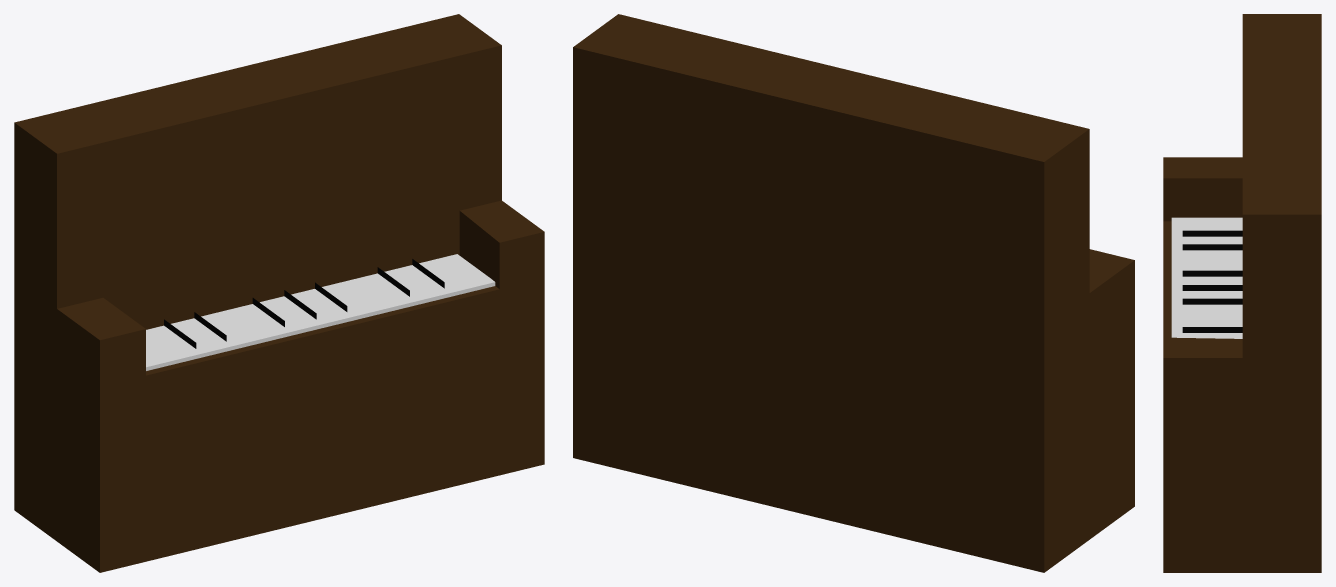
File: Piano.fbx
The picture shows the model from 3 angles, left to right: view 1: azimuth 30°, elevation 25°; view 2: azimuth 150°, elevation 25°; view 3: azimuth 270°, elevation 25°; orthographic projection. The views are drawn at different scales.
Visible parts, largest first — view 1: Piano, WhiteKeys, BlackKeys; view 2: Piano; view 3: Piano, WhiteKeys, BlackKeys.
Part boxes in pixels (left/top/right/bottom): Piano: left=14, top=14, right=544, bottom=572; WhiteKeys: left=146, top=254, right=495, bottom=370; BlackKeys: left=164, top=259, right=444, bottom=348; Piano: left=573, top=14, right=1134, bottom=572; Piano: left=1163, top=14, right=1321, bottom=572; WhiteKeys: left=1171, top=217, right=1242, bottom=338; BlackKeys: left=1182, top=230, right=1242, bottom=332.
Size of the model in its own units: 600 by 500 by 200.
